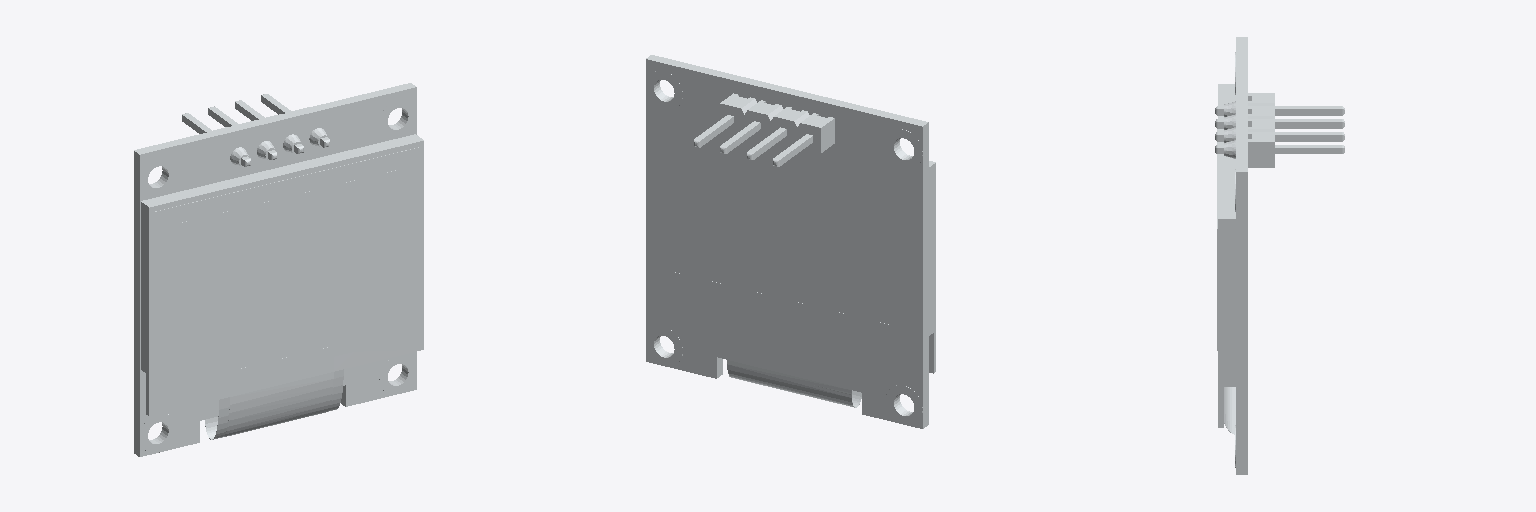
File: OLED-v2.obj
3 views of the same model, side by side, from view 1: azimuth 30°, elevation 25°; view 2: azimuth 150°, elevation 25°; view 3: azimuth 270°, elevation 25° (orthographic).
Visible parts, largest first — view 1: (Unsaved); view 2: (Unsaved); view 3: (Unsaved).
Part boxes in pixels (left/top/right/bottom): (Unsaved): left=134, top=83, right=423, bottom=456; (Unsaved): left=646, top=55, right=935, bottom=428; (Unsaved): left=1215, top=37, right=1344, bottom=474.
Bounding box in the file's own units: 26.7 × 27.86 × 10.85.